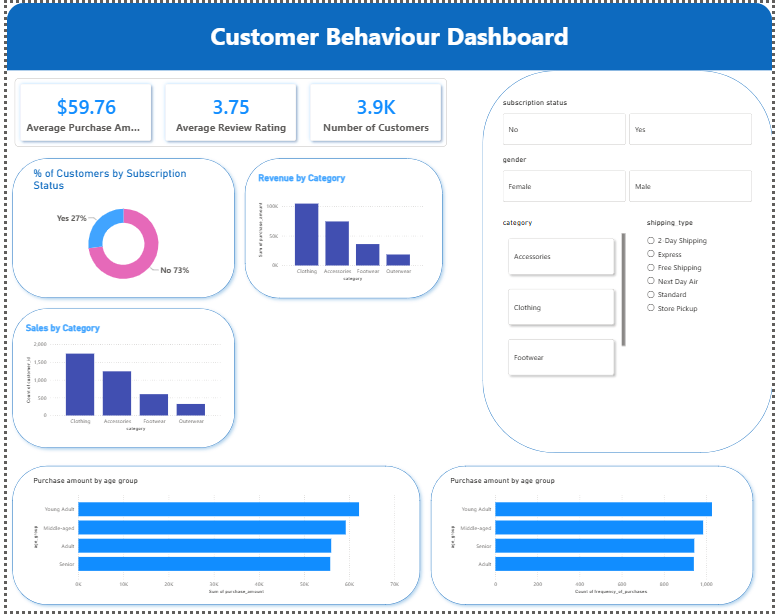

The dashboard page shown, as its layout file describes it:
{"tool":"powerbi","page":{"name":"Page 1","canvas":[1700,1350],"ordinal":0},"visuals":[{"type":"cardVisual","fields":{"Data":["Customer.Average Purchase Amount","Customer.Average Review Rating","Customer.Number of Customers"]},"box":[0,150,996.7,186.7],"z":0},{"type":"shape","box":[0,0,1700,150],"z":1000},{"type":"textbox","box":[0,30,1700,83.3],"z":2000},{"type":"shape","box":[0,332.6,518,334],"z":3000},{"type":"donutChart","title":"% of Customers by Subscription Status","fields":{"Category":["Customer.subscription_status"],"Y":["CountNonNull(Customer.customer_id)"]},"box":[52.2,363,410,278],"z":4000},{"type":"shape","box":[517.4,334.8,463,334.8],"z":5000},{"type":"shape","box":[0,665.2,518,334],"z":6000},{"type":"clusteredColumnChart","title":"Revenue by Category","fields":{"Category":["Customer.category"],"Y":["Sum(Customer.purchase_amount)"]},"box":[552.2,378.3,376.1,245.7],"z":7000},{"type":"clusteredColumnChart","title":"Sales by Category","fields":{"Y":["CountNonNull(Customer.customer_id)"],"Category":["Customer.category"]},"box":[37,708.7,443.5,245.7],"z":8000},{"type":"shape","box":[1055,150,645,850],"z":8001},{"type":"advancedSlicerVisual","fields":{"Values":["Customer.subscription_status"]},"box":[1095,211,564,111],"z":8002},{"type":"advancedSlicerVisual","fields":{"Values":["Customer.gender"]},"box":[1096.7,336.7,564,111],"z":8003},{"type":"advancedSlicerVisual","fields":{"Values":["Customer.category"]},"box":[1095,475,282.5,370],"z":8004},{"type":"listSlicer","fields":{"Values":["Customer.shipping_type"]},"box":[1416.2,475,202.5,328.8],"z":8005},{"type":"shape","box":[0,1017.5,930,332.5],"z":8006},{"type":"clusteredBarChart","title":"Purchase amount by age group","fields":{"Category":["Customer.age_group"],"Y":["Sum(Customer.purchase_amount)"]},"box":[52.5,1050,822.5,267.5],"z":8007},{"type":"shape","box":[930,1017.5,740,332.5],"z":8008},{"type":"clusteredBarChart","title":"Purchase amount by age group","fields":{"Category":["Customer.age_group"],"Y":["CountNonNull(Customer.frequency_of_purchases)"]},"box":[980,1050,640,267.5],"z":8009}]}

Visuals, with their boxes in screenshot pixels (x1, y1, x2, y2), scaled from the page's 1700x1350 canvas onto the 776x615 screenshot:
cardVisual - Customer.Average Purchase Amount x Customer.Average Review Rating: select_region(0, 68, 455, 153)
shape: select_region(0, 0, 775, 68)
textbox: select_region(0, 14, 775, 52)
shape: select_region(0, 152, 236, 304)
"% of Customers by Subscription Status" donutChart: select_region(24, 165, 211, 292)
shape: select_region(236, 153, 448, 305)
shape: select_region(0, 303, 236, 455)
"Revenue by Category" clusteredColumnChart: select_region(252, 172, 424, 284)
"Sales by Category" clusteredColumnChart: select_region(17, 323, 219, 435)
shape: select_region(482, 68, 775, 456)
advancedSlicerVisual - Customer.subscription_status: select_region(500, 96, 757, 147)
advancedSlicerVisual - Customer.gender: select_region(501, 153, 758, 204)
advancedSlicerVisual - Customer.category: select_region(500, 216, 629, 385)
listSlicer - Customer.shipping_type: select_region(646, 216, 739, 366)
shape: select_region(0, 464, 425, 614)
"Purchase amount by age group" clusteredBarChart: select_region(24, 478, 399, 600)
shape: select_region(425, 464, 762, 614)
"Purchase amount by age group" clusteredBarChart: select_region(447, 478, 739, 600)
